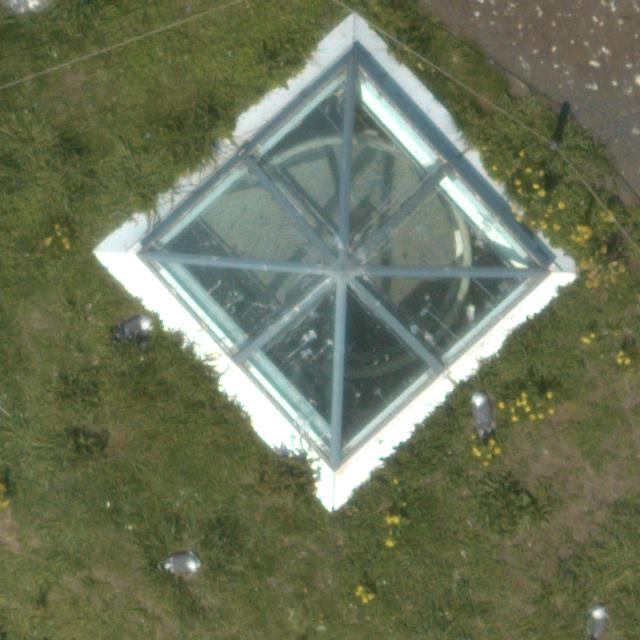umineko: (114, 315, 154, 339), (471, 391, 493, 429), (160, 556, 202, 574), (588, 608, 606, 638)
